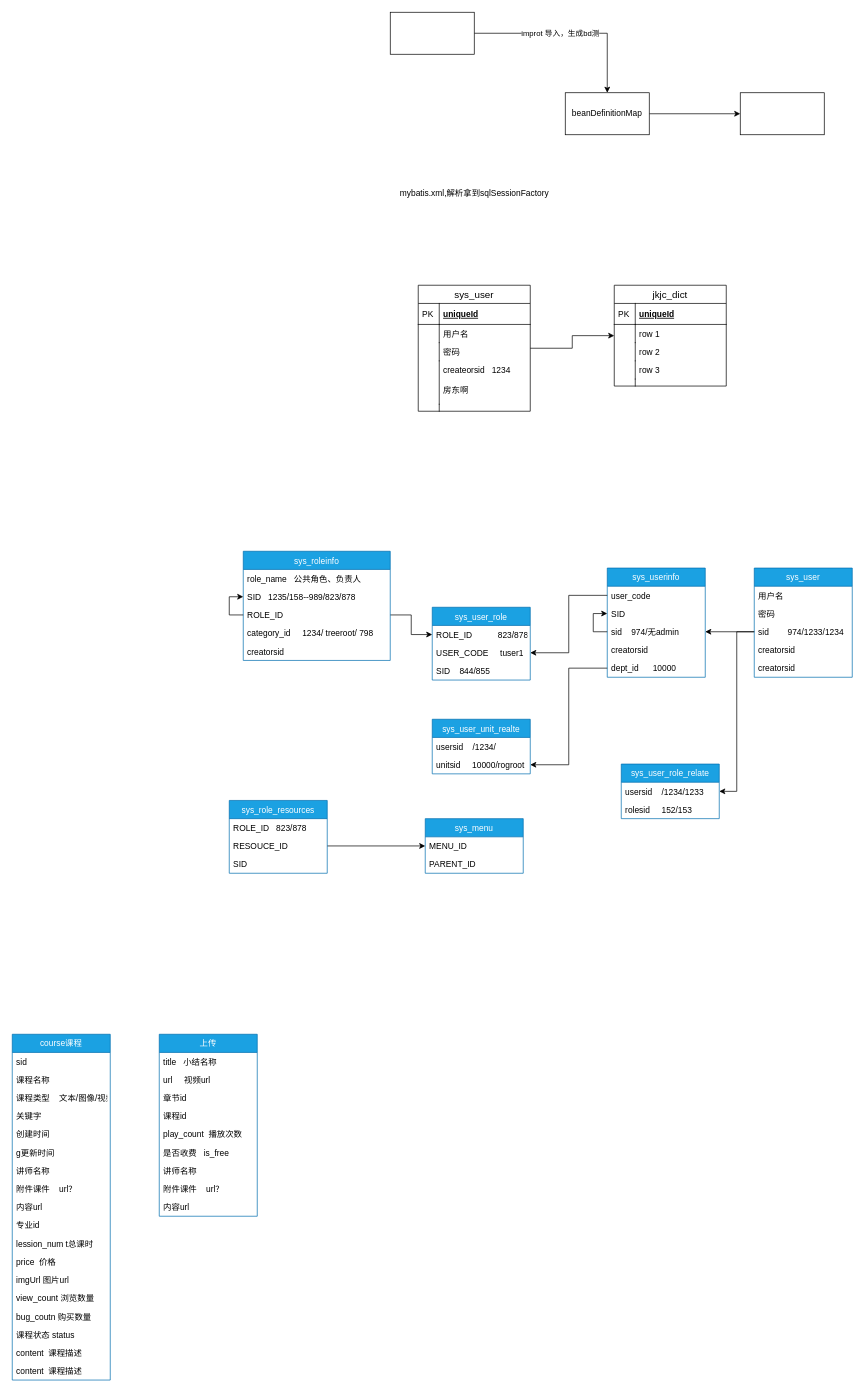
Image size: 865x1394. Some labels were removed from this diagram. Each missing label, with the centre of its shape:
"Bean工厂后置处理器，处理bd" goes at [782,113].
"普通类 user.class orderService.class" goes at [432,33].
